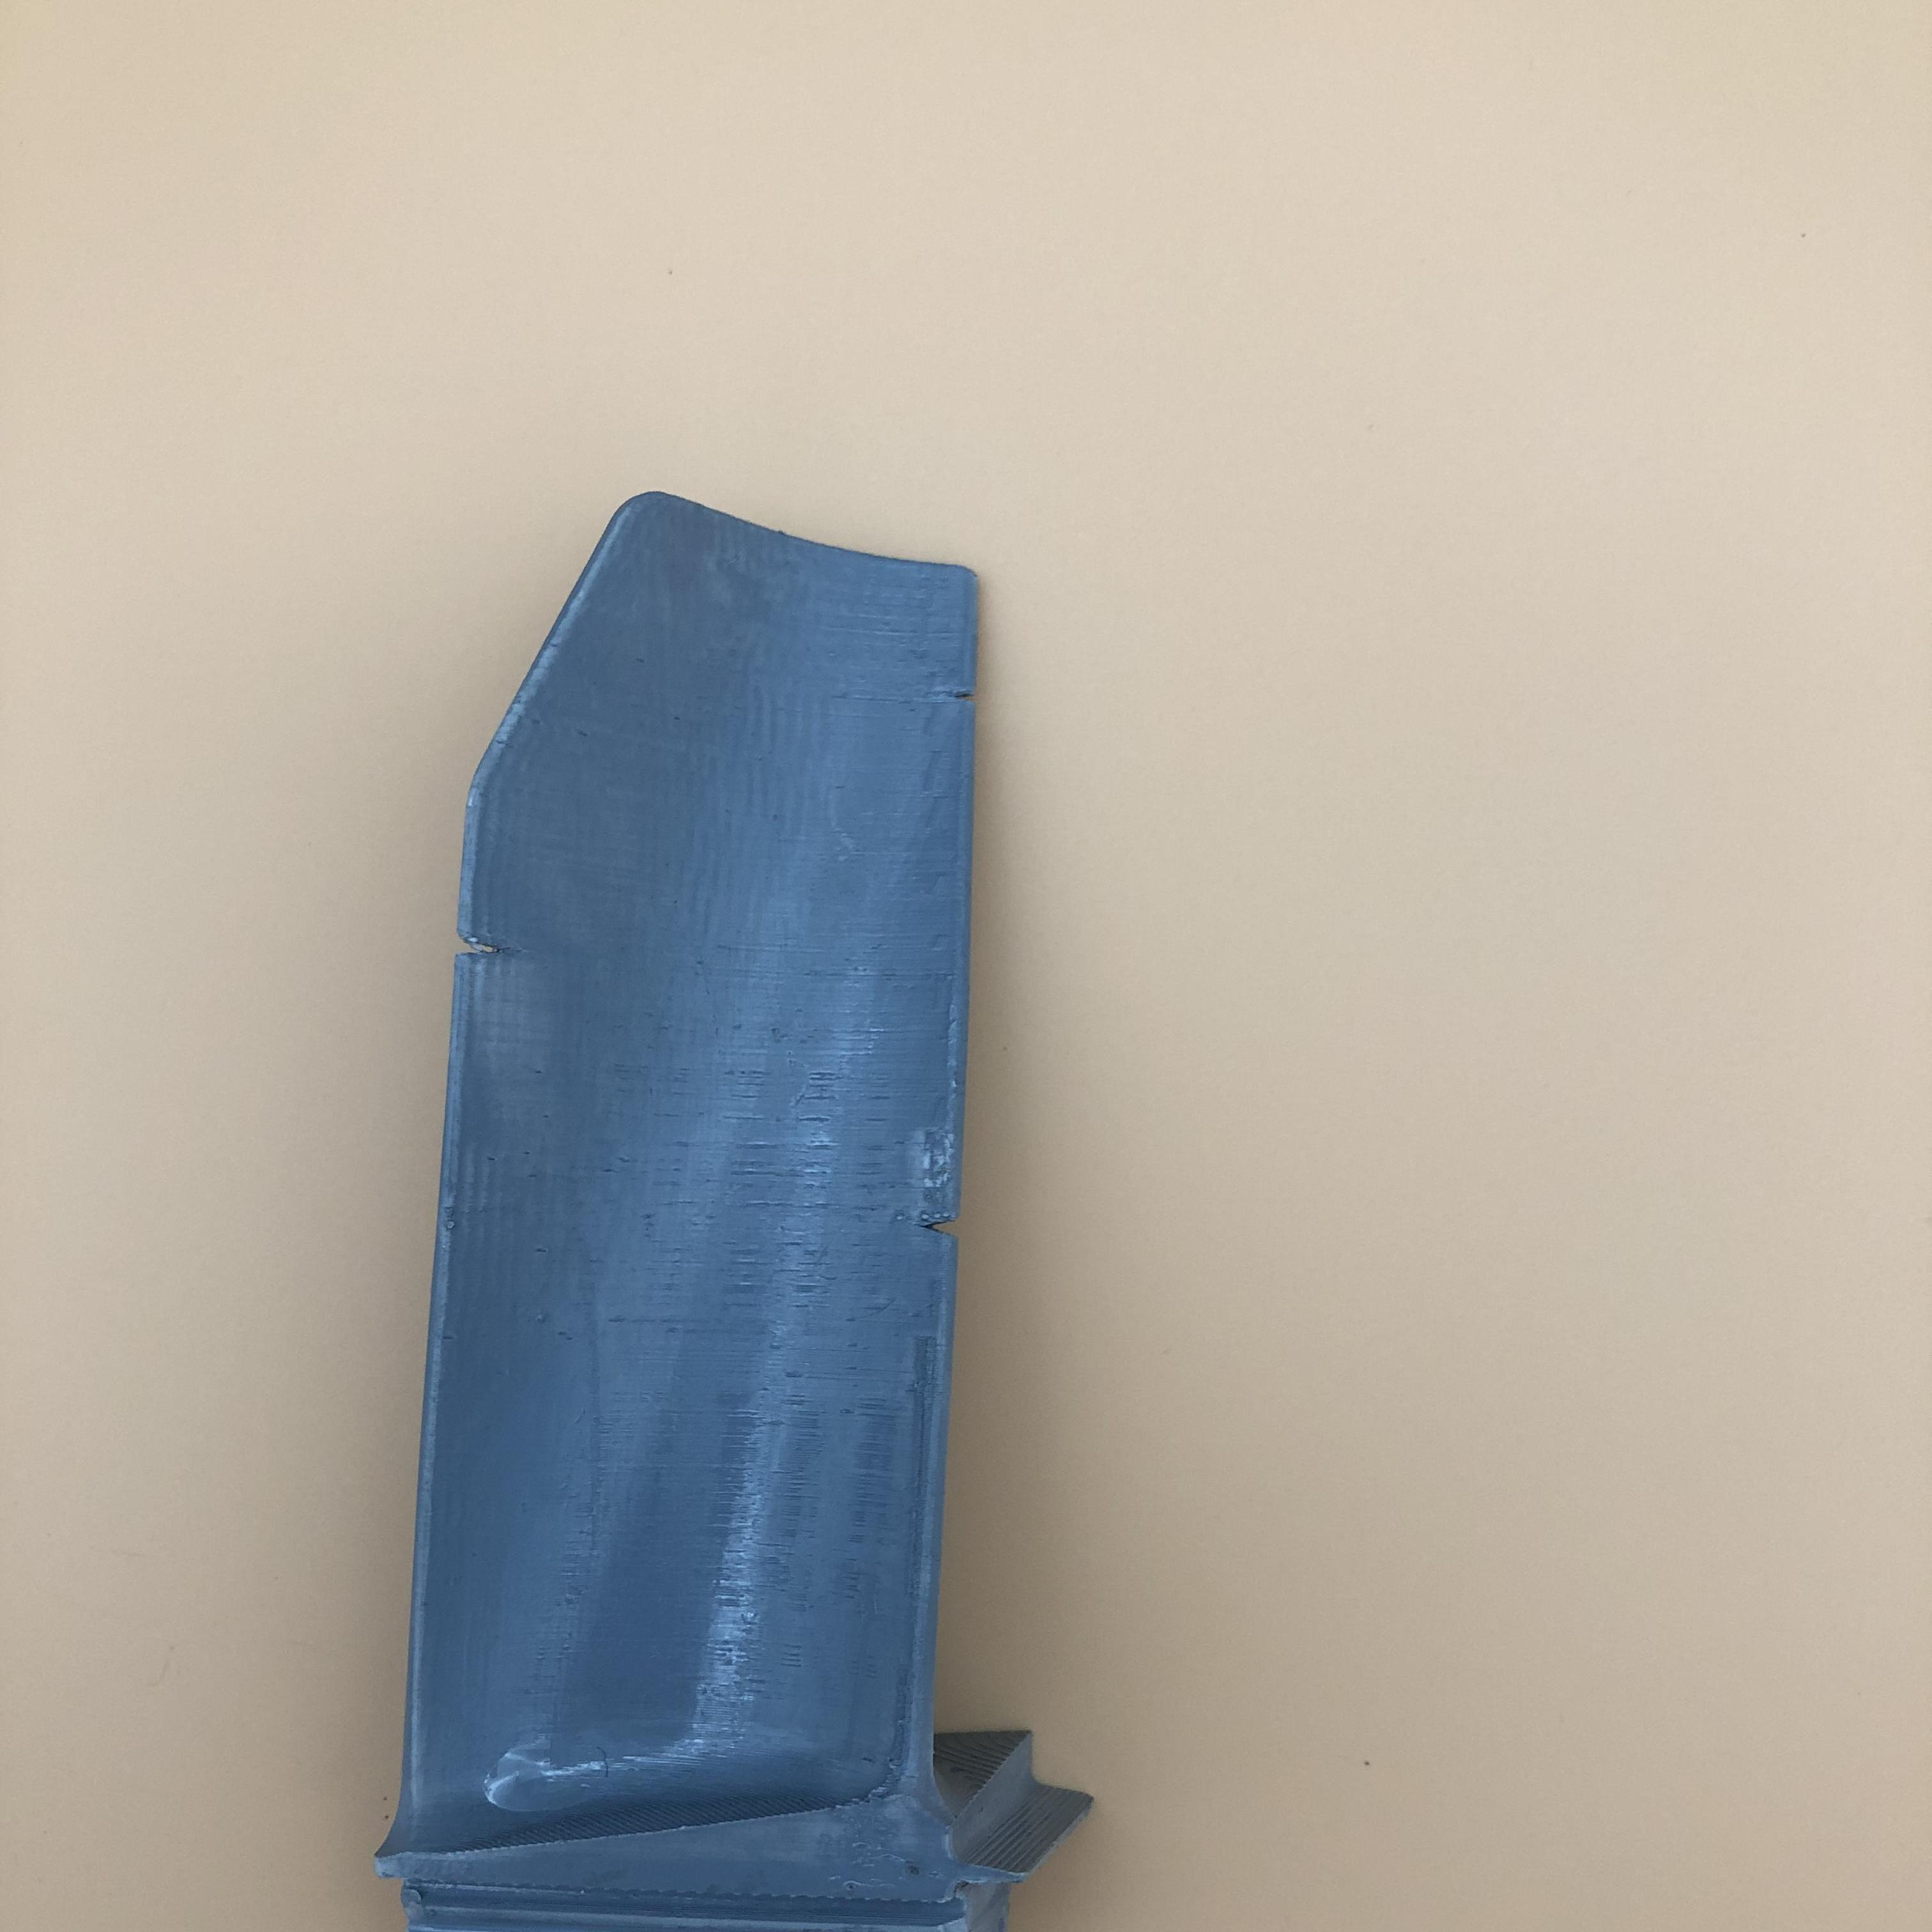groove: (458, 915, 513, 964), (918, 1200, 955, 1249), (934, 669, 977, 706)
